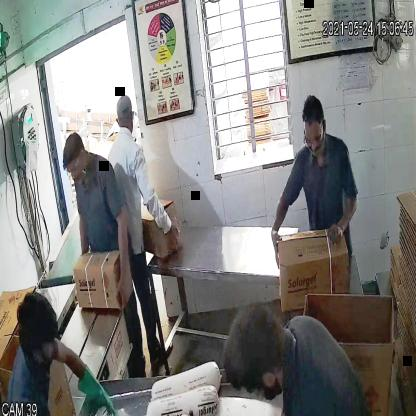goggles: (301, 126, 325, 150), (63, 154, 85, 180)
